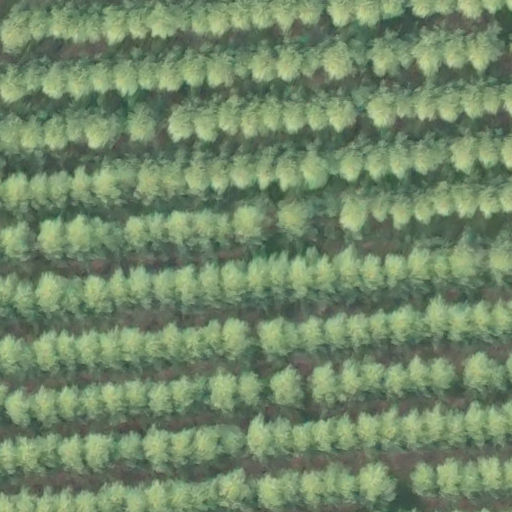eucalipto: (453, 230, 492, 294), (461, 347, 508, 399), (203, 369, 242, 420), (258, 315, 301, 361), (275, 200, 322, 242), (357, 459, 399, 505), (308, 360, 347, 407), (427, 353, 465, 400), (232, 200, 270, 247), (35, 269, 70, 320), (332, 246, 362, 304), (285, 256, 321, 304), (270, 364, 308, 409), (81, 427, 119, 471), (73, 325, 107, 374), (184, 148, 218, 197), (465, 27, 501, 73), (141, 424, 177, 470), (125, 263, 159, 311), (243, 414, 277, 462), (326, 458, 358, 509), (81, 269, 116, 315), (219, 256, 251, 306), (390, 305, 431, 344), (320, 39, 359, 80), (203, 46, 239, 90), (331, 141, 366, 186), (337, 193, 371, 237), (164, 208, 200, 249), (304, 85, 334, 134), (410, 135, 440, 184), (133, 159, 166, 203), (434, 458, 468, 500), (215, 93, 246, 139), (355, 408, 386, 454), (158, 47, 188, 94), (198, 258, 225, 310), (274, 41, 305, 86), (221, 317, 251, 363), (449, 131, 479, 177), (357, 250, 385, 299), (299, 465, 329, 510), (259, 93, 290, 136), (250, 42, 281, 85), (400, 402, 425, 455), (323, 312, 353, 356), (119, 323, 147, 370), (31, 380, 60, 425), (311, 415, 341, 458), (408, 457, 438, 500), (464, 399, 490, 448), (188, 421, 219, 462), (275, 144, 303, 189), (147, 378, 180, 416), (31, 328, 60, 371), (411, 78, 438, 124), (166, 103, 197, 143), (434, 81, 462, 125), (446, 301, 474, 345), (123, 210, 151, 254), (48, 169, 77, 211), (112, 56, 141, 98), (101, 2, 128, 47), (409, 183, 436, 228), (427, 176, 455, 219), (255, 473, 286, 511), (227, 147, 255, 189), (475, 124, 500, 171), (454, 178, 479, 224), (57, 434, 85, 475), (148, 1, 177, 40), (390, 185, 414, 232), (488, 293, 512, 340), (458, 79, 486, 118), (429, 246, 454, 289), (255, 142, 277, 190), (384, 362, 411, 401), (138, 54, 163, 95), (384, 248, 408, 287), (90, 58, 110, 93)
